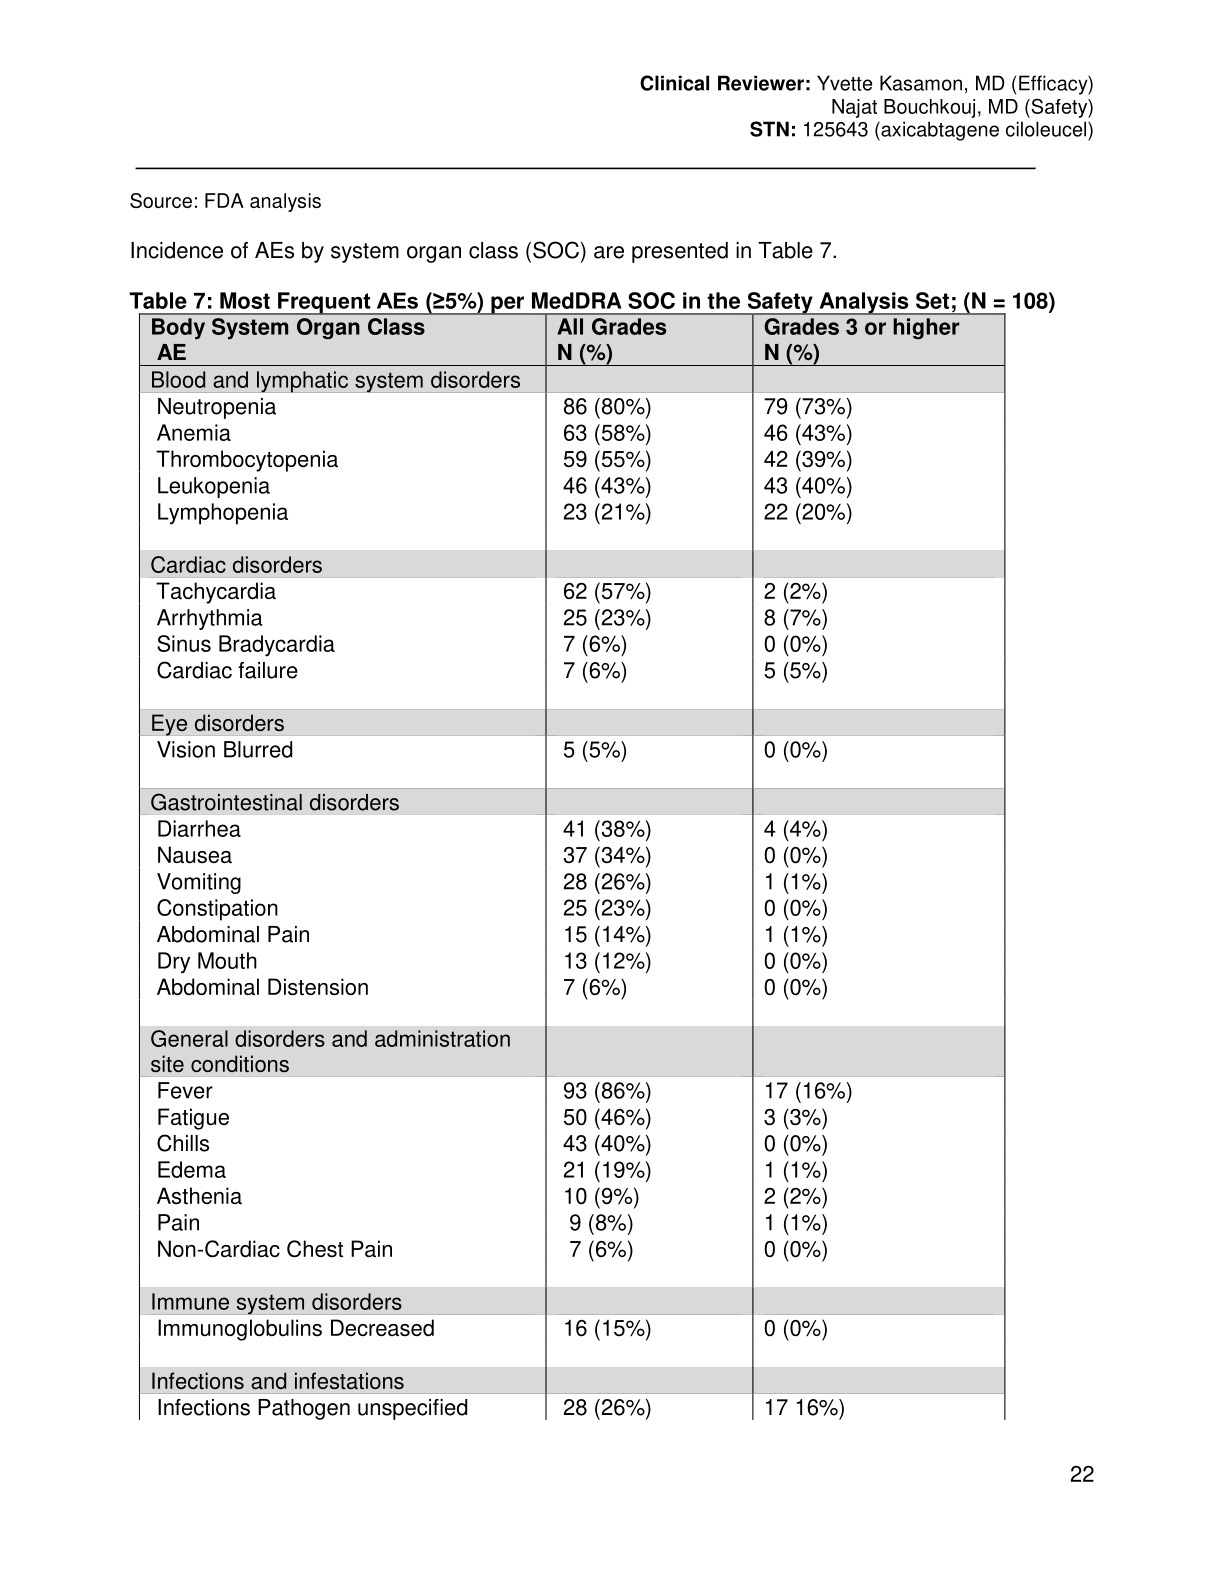partial_lined: (138, 312, 1007, 1422)
